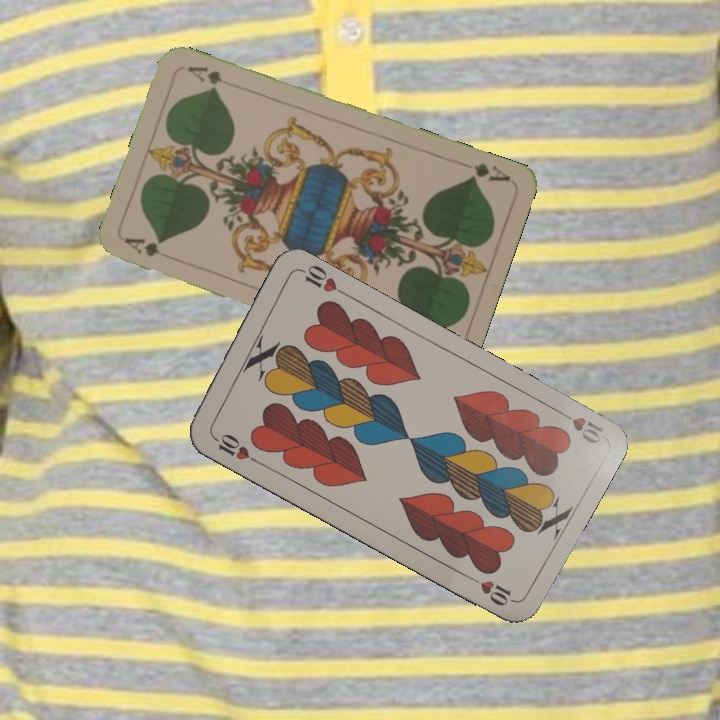GA: (464, 158, 513, 185), (121, 233, 162, 260)
H10: (552, 405, 606, 447), (207, 429, 261, 466)
